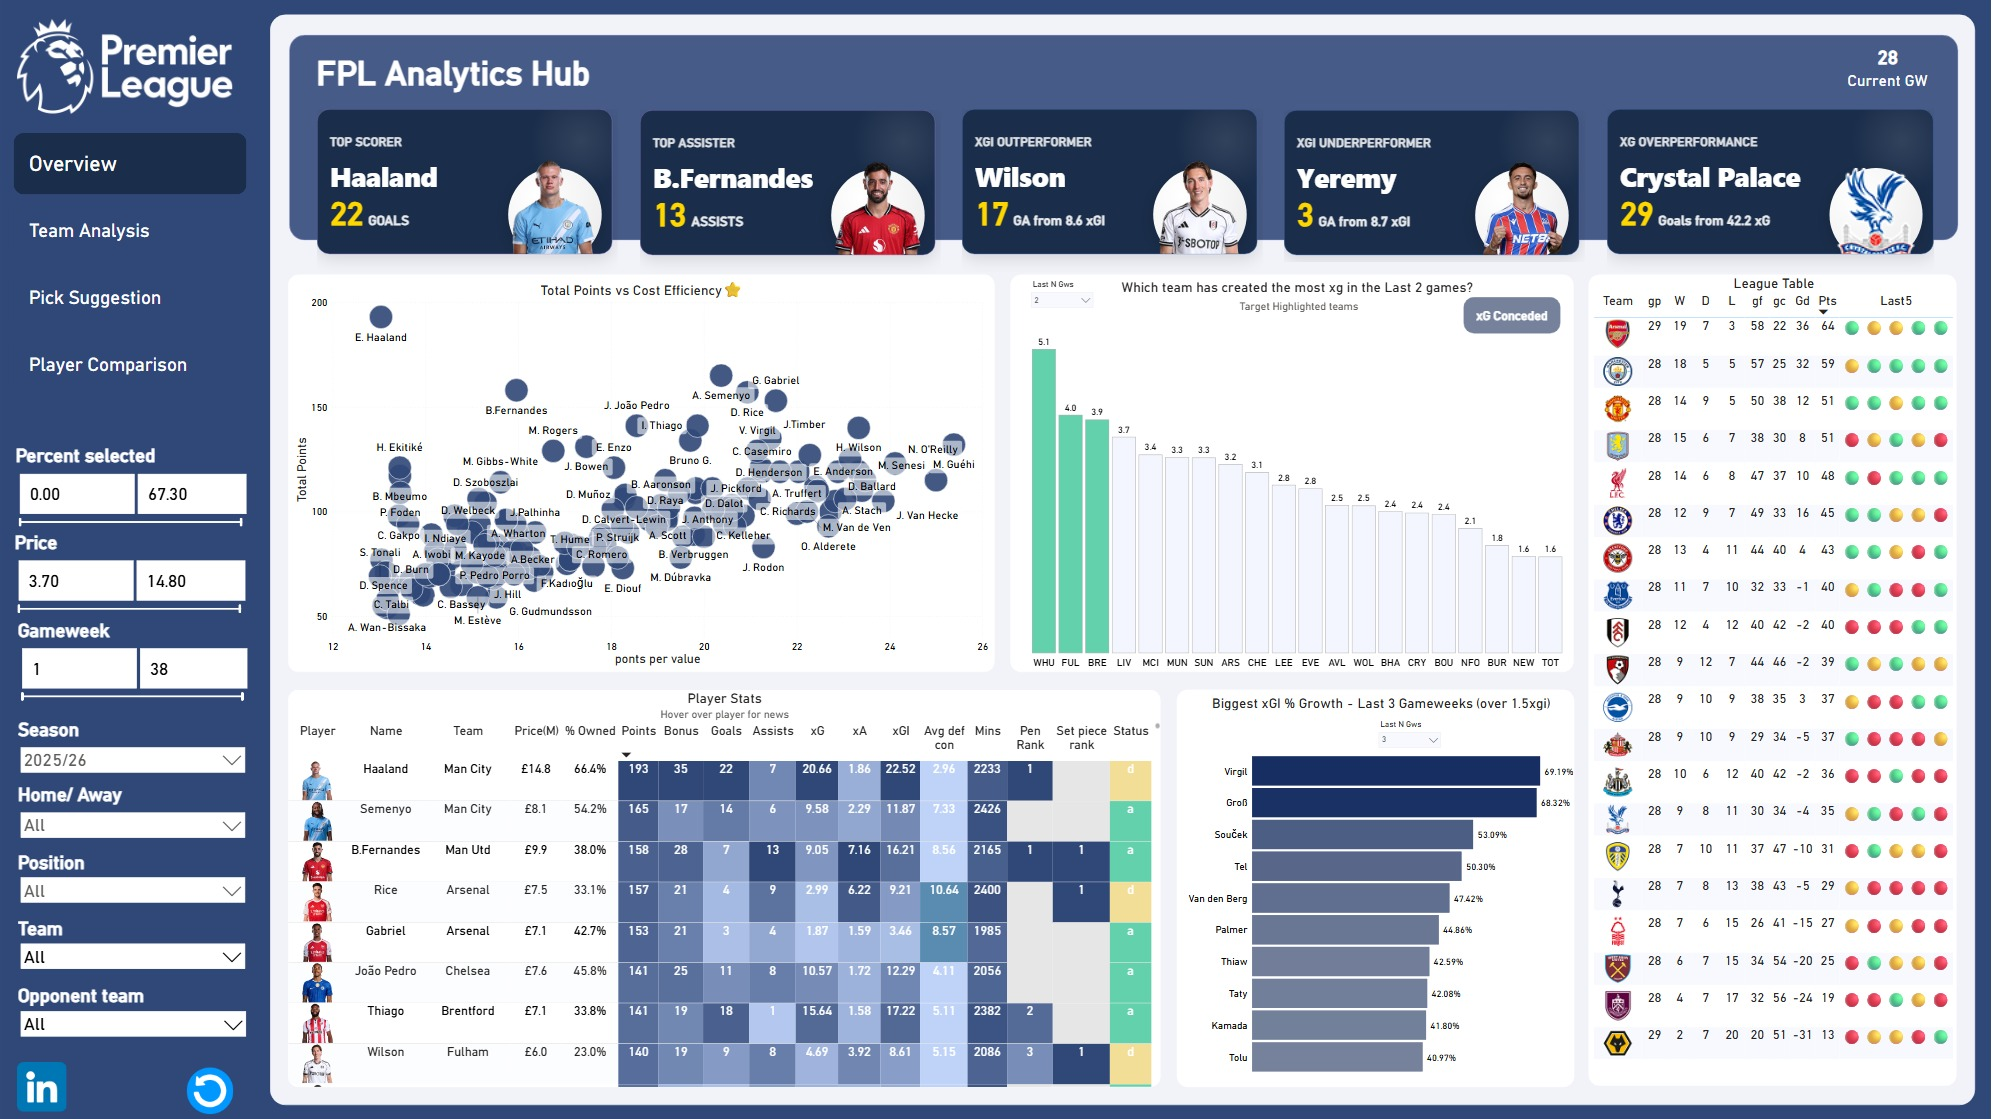

The page's visual inventory and layout, read from the dashboard file:
{"tool":"powerbi","page":{"name":"Overview","canvas":[3840,2160],"ordinal":0},"visuals":[{"type":"image","box":[32,0,416,256],"z":0},{"type":"image","box":[32,2048,96,96],"z":1000},{"type":"shape","box":[522,28,3290,2104],"z":2000},{"type":"shape","box":[557,68,3220,396],"z":3000},{"type":"pageNavigator","box":[26.7,256.7,450,506.7],"z":4000},{"type":"slicer","title":"Price","fields":{"Values":["FactTable.value"]},"box":[29,1020,450,195],"z":5000},{"type":"group","id":"g1","title":"Group 1","box":[34,1190,450,705],"z":6000},{"type":"slicer","title":"Opponent team","fields":{"Values":["opponent teams.opponent_name"]},"box":[34,1895,450,130],"z":7000},{"type":"slicer","title":"Percent selected ","fields":{"Values":["FactTable.selected_by_percent"]},"box":[30,853.3,450,196.7],"z":8000},{"type":"scatterChart","title":"Total Points vs Cost Efficiency⭐","fields":{"Y":["Sum(FactTable.total_points)"],"X":["measures_.pointspervalue"],"Category":["players.display_name"]},"box":[556.7,530,1363.3,766.7],"z":9000},{"type":"tableEx","title":"League Table","fields":{"Values":["teams.badge_url","measures_.gp","measures_.wins","measures_.draws","measures_.loss","measures_.gf","measures_.gc","measures_.Gd","measures_.Points","measures_.Last5"]},"box":[3065,530,710,1565],"z":10000},{"type":"clusteredBarChart","fields":{"Y":["measures_.xgigrowth"],"Category":["players.web_name"]},"box":[2166.7,1330,870,766.7],"z":11000},{"type":"slicer","fields":{"Values":["Last N Gws 2.Last N Gws"]},"box":[2540,1380,140,75],"z":12000},{"type":"tableEx","title":"Player Stats","fields":{"Values":["players.photo","players.web_name","measures_.team","measures_.pricedisplay","measures_.% Owned","Sum(FactTable.total_points)","Sum(FactTable.bonus)","Sum(FactTable.goals_scored)","Sum(FactTable.assists)","Sum(FactTable.xG)","Sum(FactTable.xA)","Sum(FactTable.xGI)"]},"box":[555,1330,1580,765],"z":13000},{"type":"htmlContent443BE3AD55E043BF878BED274D3A6855","fields":{"content":["measures_.topscorercard"]},"box":[606.7,203.3,590,326.7],"z":14000},{"type":"htmlContent443BE3AD55E043BF878BED274D3A6855","fields":{"content":["measures_.topsassistscard"]},"box":[1228.8,206.7,590,326.7],"z":15000},{"type":"htmlContent443BE3AD55E043BF878BED274D3A6855","fields":{"content":["measures_.xgoverperformance_PlayerCard"]},"box":[1850.8,205,590,325],"z":16000},{"type":"htmlContent443BE3AD55E043BF878BED274D3A6855","fields":{"content":["measures_.xgdiff_PlayerCard"]},"box":[2472.9,206.7,590,303.3],"z":17000},{"type":"clusteredColumnChart","fields":{"Category":["teams.team_short_name"],"Y":["measures_.maxteam_xg_conceded"]},"box":[1950,530,1086.7,766.7],"z":18000},{"type":"slicer","title":"Season","fields":{"Values":["season.season"]},"box":[34,1382,448,128],"z":18000,"group":"g1"},{"type":"htmlContent443BE3AD55E043BF878BED274D3A6855","fields":{"content":["measures_.xgteamdiff_PlayerCard"]},"box":[3095,205,640,325],"z":19000},{"type":"slicer","title":"Position","fields":{"Values":["Position.Position"]},"box":[34,1638,448,128],"z":19000,"group":"g1"},{"type":"textbox","box":[606.7,96.7,736.7,160],"z":20000},{"type":"slicer","title":"Home/ Away","fields":{"Values":["home/away.home/away"]},"box":[34,1507.7,448,128],"z":20000,"group":"g1"},{"type":"card","fields":{"Values":["measures_._gw"]},"box":[3546.7,70,190,110],"z":21000},{"type":"slicer","title":"Gameweek","fields":{"Values":["gw.gw"]},"box":[34,1190,448,192],"z":21000,"group":"g1"},{"type":"slicer","fields":{"Values":["Last N Gws 2.Last N Gws"]},"box":[2463.3,573.3,140,76.7],"z":23000},{"type":"slicer","title":"Team ","fields":{"Values":["teams.team_name"]},"box":[34,1766,448,128],"z":23000,"group":"g1"},{"type":"shape","box":[2823,573,186.7,70],"z":25000},{"type":"image","box":[359.6,2049.4,89.9,111.5],"z":26000}]}

Visuals, with their boxes on the page's 3840x2160 design canvas (x1, y1, x2, y2). These are canvas units, not pixel positions in the 1994x1119 screenshot, which may show the page scaled, cropped or inside an application window:
image: bbox(32, 0, 448, 256)
image: bbox(32, 2048, 128, 2144)
shape: bbox(522, 28, 3812, 2132)
shape: bbox(557, 68, 3777, 464)
pageNavigator: bbox(27, 257, 477, 763)
"Price" slicer: bbox(29, 1020, 479, 1215)
"Group 1" group: bbox(34, 1190, 484, 1895)
"Opponent team" slicer: bbox(34, 1895, 484, 2025)
"Percent selected " slicer: bbox(30, 853, 480, 1050)
"Total Points vs Cost Efficiency⭐" scatterChart: bbox(557, 530, 1920, 1297)
"League Table" tableEx: bbox(3065, 530, 3775, 2095)
clusteredBarChart - measures_.xgigrowth x players.web_name: bbox(2167, 1330, 3037, 2097)
slicer - Last N Gws 2.Last N Gws: bbox(2540, 1380, 2680, 1455)
"Player Stats" tableEx: bbox(555, 1330, 2135, 2095)
htmlContent443BE3AD55E043BF878BED274D3A6855 - measures_.topscorercard: bbox(607, 203, 1197, 530)
htmlContent443BE3AD55E043BF878BED274D3A6855 - measures_.topsassistscard: bbox(1229, 207, 1819, 533)
htmlContent443BE3AD55E043BF878BED274D3A6855 - measures_.xgoverperformance_PlayerCard: bbox(1851, 205, 2441, 530)
htmlContent443BE3AD55E043BF878BED274D3A6855 - measures_.xgdiff_PlayerCard: bbox(2473, 207, 3063, 510)
clusteredColumnChart - teams.team_short_name x measures_.maxteam_xg_conceded: bbox(1950, 530, 3037, 1297)
"Season" slicer: bbox(34, 1382, 482, 1510)
htmlContent443BE3AD55E043BF878BED274D3A6855 - measures_.xgteamdiff_PlayerCard: bbox(3095, 205, 3735, 530)
"Position" slicer: bbox(34, 1638, 482, 1766)
textbox: bbox(607, 97, 1343, 257)
"Home/ Away" slicer: bbox(34, 1508, 482, 1636)
card - measures_._gw: bbox(3547, 70, 3737, 180)
"Gameweek" slicer: bbox(34, 1190, 482, 1382)
slicer - Last N Gws 2.Last N Gws: bbox(2463, 573, 2603, 650)
"Team " slicer: bbox(34, 1766, 482, 1894)
shape: bbox(2823, 573, 3010, 643)
image: bbox(360, 2049, 450, 2161)
